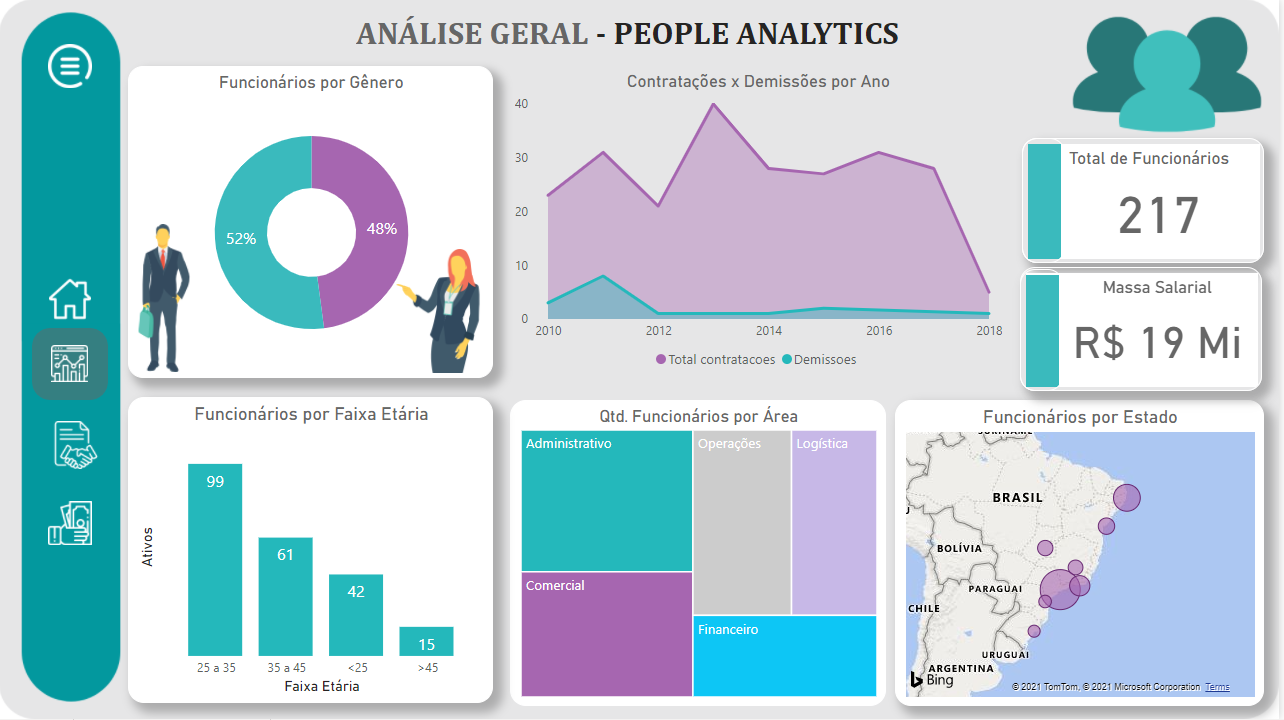

This screenshot's page, from the dashboard's own definition file:
{"tool":"powerbi","page":{"name":"Análise Geral","canvas":[1280,720],"ordinal":1},"visuals":[{"type":"image","box":[31.7,39.9,78.5,53.7],"z":0},{"type":"image","box":[38.5,417,75.7,57.8],"z":1000},{"type":"image","box":[38.5,496.9,63.3,53.7],"z":2000},{"type":"shape","box":[33,328.9,75.7,71.6],"z":3000},{"type":"image","box":[45.4,269.8,52.3,59.2],"z":4000},{"type":"image","box":[46.8,341.3,46.8,46.8],"z":5000},{"type":"textbox","box":[352.3,9.6,575.3,60.6],"z":6000},{"type":"treemap","title":"Qtd. Funcionários por Área","fields":{"Group":["BaseFuncionarios.Área"],"Values":["CountNonNull(BaseFuncionarios.ID RH)"]},"box":[510.6,400.5,375.7,305.5],"z":7000},{"type":"shape","box":[1022.6,139,242.2,125.2],"z":8000},{"type":"shape","box":[1022.6,139,42.7,125.2],"z":9000},{"type":"card","title":"Total de Funcionários","fields":{"Values":["BaseFuncionarios.Ativos"]},"box":[1065.3,148.6,188.6,101.8],"z":10000},{"type":"clusteredColumnChart","title":"Funcionários por Faixa Etária","fields":{"Y":["BaseFuncionarios.Ativos"],"Category":["BaseFuncionarios.Faixa Etária"]},"box":[129.4,397.8,364.7,305.5],"z":11000},{"type":"map","title":"Funcionários por Estado","fields":{"Size":["BaseFuncionarios.Ativos"],"Category":["BaseFuncionarios.Estado"]},"box":[896,400.5,368.9,305.5],"z":12000},{"type":"donutChart","title":"Funcionários por Gênero","fields":{"Category":["BaseFuncionarios.Genero"],"Y":["BaseFuncionarios.Ativos"]},"box":[129.4,67.4,364.7,312.4],"z":13000},{"type":"image","box":[77.1,220.2,174.8,158.3],"z":14000},{"type":"image","box":[367.5,245,143.1,133.5],"z":15000},{"type":"shape","box":[1021.2,268.4,242.2,123.9],"z":16000},{"type":"shape","box":[1021.2,269.8,42.7,122.5],"z":17000},{"type":"card","title":"Massa Salarial","fields":{"Values":["BaseFuncionarios.Massa Salarial"]},"box":[1064.3,278.4,188.6,101.8],"z":18000},{"type":"areaChart","title":"Contratações x Demissões por Ano","fields":{"Category":["BaseFuncionarios.Data de Contratacao.Variation.Hierarquia de datas.Ano","BaseFuncionarios.Data de Contratacao.Variation.Hierarquia de datas.Trimestre","BaseFuncionarios.Data de Contratacao.Variation.Hierarquia de datas.Mês","BaseFuncionarios.Data de Contratacao.Variation.Hierarquia de datas.Dia"],"Y":["BaseFuncionarios.Total contratacoes","BaseFuncionarios.Demissoes"]},"box":[510.6,71.6,496.9,306.9],"z":19000}]}

Visuals, with their boxes in screenshot pixels (x1, y1, x2, y2), scaled from the page's 1280x720 canvas onto the 1284x720 screenshot:
image: <box>32,40,111,94</box>
image: <box>39,417,115,475</box>
image: <box>39,497,102,551</box>
shape: <box>33,329,109,400</box>
image: <box>46,270,98,329</box>
image: <box>47,341,94,388</box>
textbox: <box>353,10,930,70</box>
"Qtd. Funcionários por Área" treemap: <box>512,400,889,706</box>
shape: <box>1026,139,1269,264</box>
shape: <box>1026,139,1069,264</box>
"Total de Funcionários" card: <box>1069,149,1258,250</box>
"Funcionários por Faixa Etária" clusteredColumnChart: <box>130,398,496,703</box>
"Funcionários por Estado" map: <box>899,400,1269,706</box>
"Funcionários por Gênero" donutChart: <box>130,67,496,380</box>
image: <box>77,220,253,378</box>
image: <box>369,245,512,378</box>
shape: <box>1024,268,1267,392</box>
shape: <box>1024,270,1067,392</box>
"Massa Salarial" card: <box>1068,278,1257,380</box>
"Contratações x Demissões por Ano" areaChart: <box>512,72,1011,378</box>
